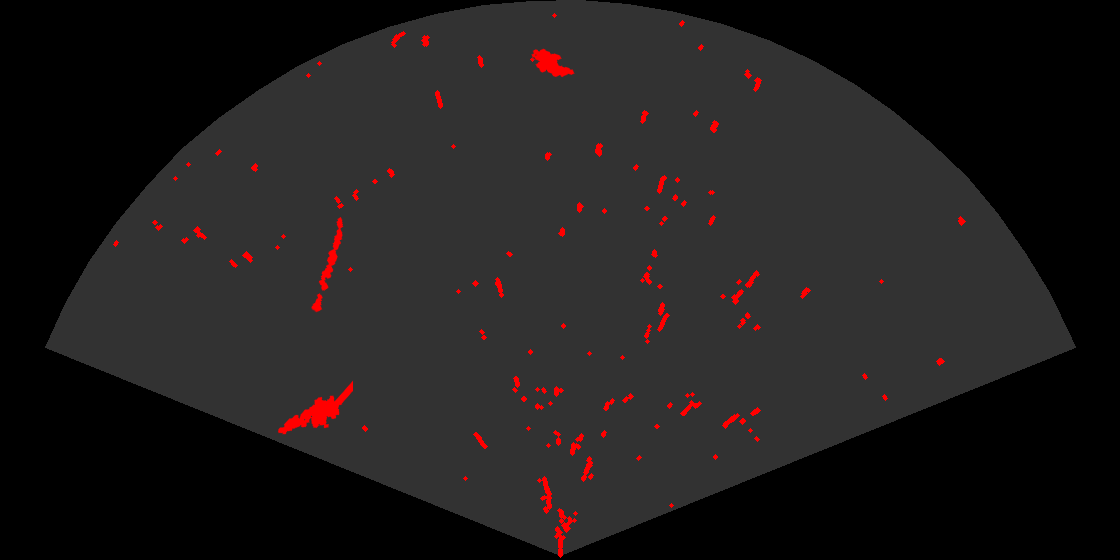AUV: (530, 47, 576, 79)
chain: (310, 215, 345, 314)
frogman: (276, 379, 353, 436)
